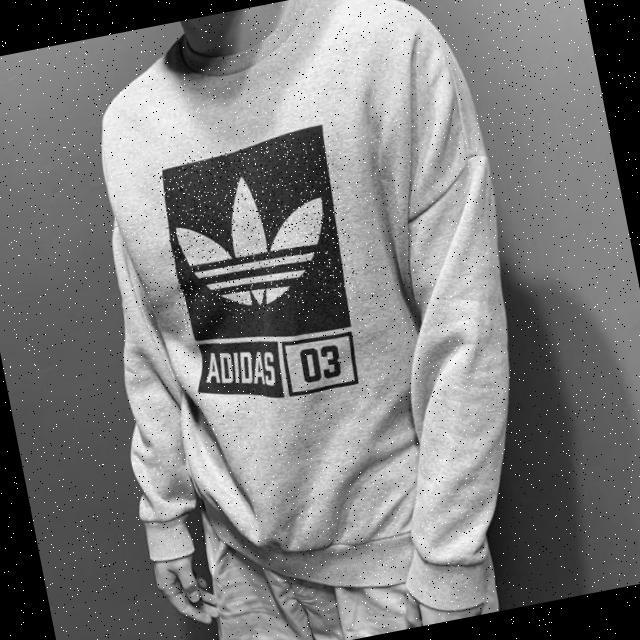Adidas: (153, 131, 361, 328)
